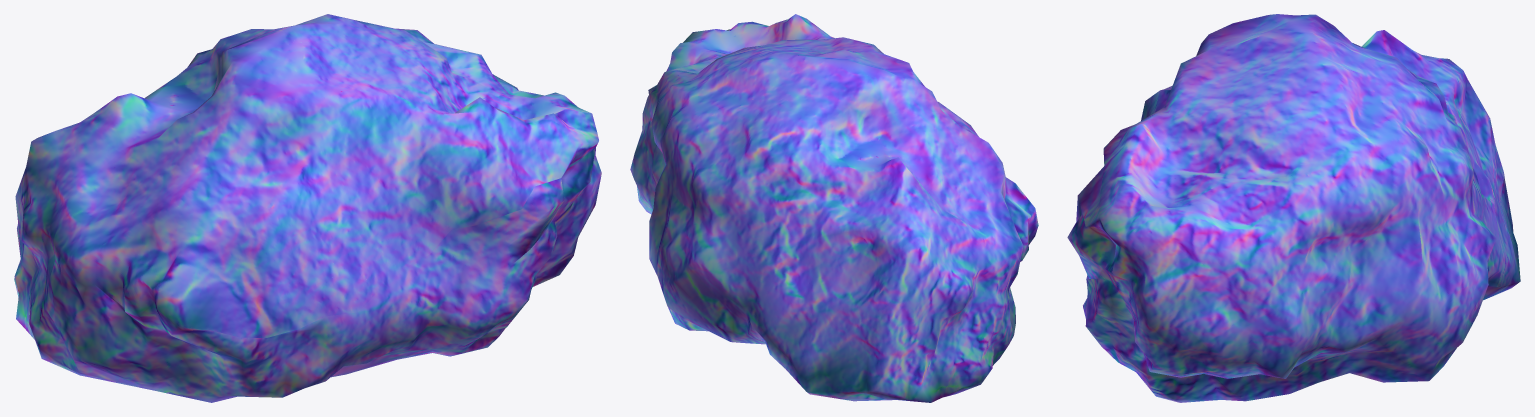
File: Rock009 Moss Variant.fbx
The picture shows the model from 3 angles, left to right: view 1: azimuth 30°, elevation 25°; view 2: azimuth 150°, elevation 25°; view 3: azimuth 270°, elevation 25°; orthographic projection. The views are drawn at different scales.
Parts seen in each view (by area): view 1: Rock09_LOD0; view 2: Rock09_LOD0; view 3: Rock09_LOD0.
Boxes of the visible parts, x1,y1,x2,y2 form: Rock09_LOD0: (14, 14, 601, 402); Rock09_LOD0: (630, 14, 1038, 402); Rock09_LOD0: (1067, 14, 1520, 402).
Bounding box in the file's own units: 87.16 × 57.27 × 72.57.
